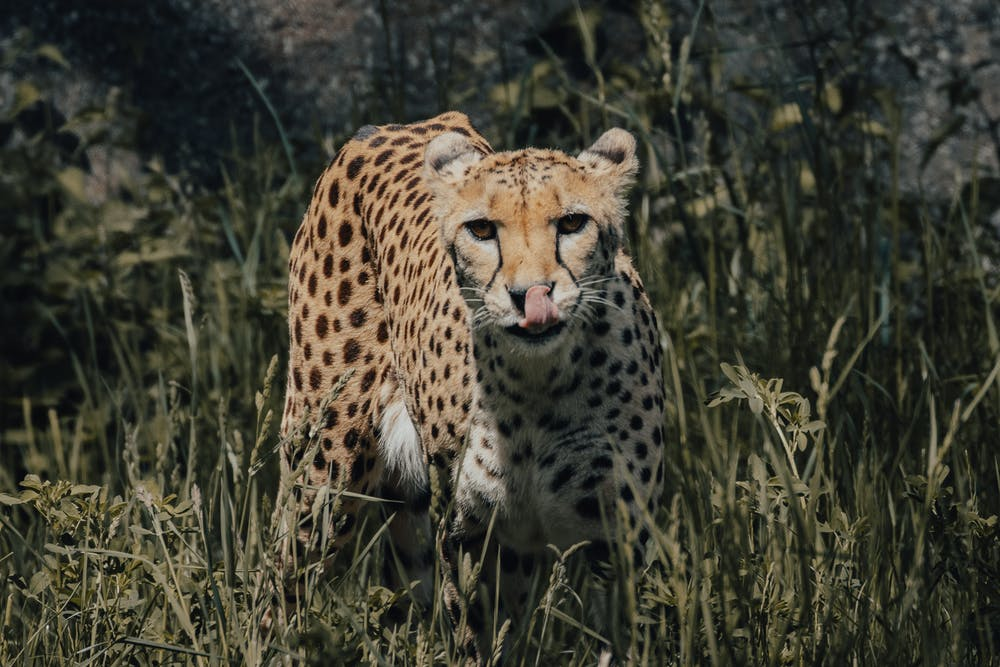cheetah: (413, 123, 648, 375)
